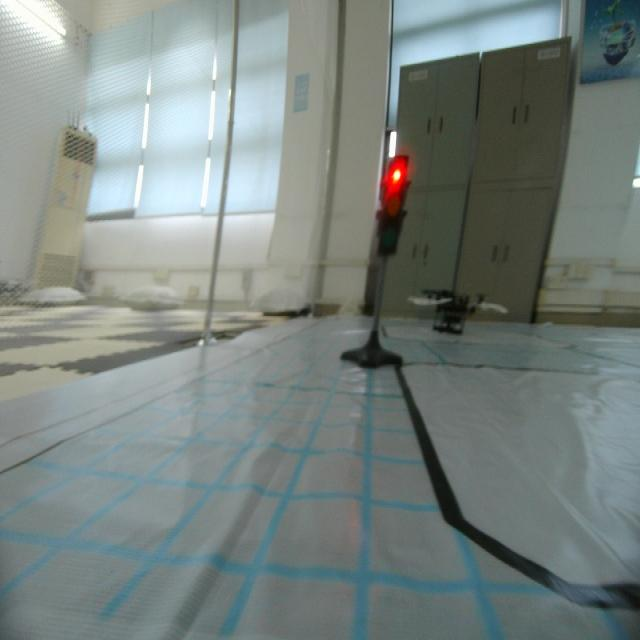red: (371, 151, 413, 261)
